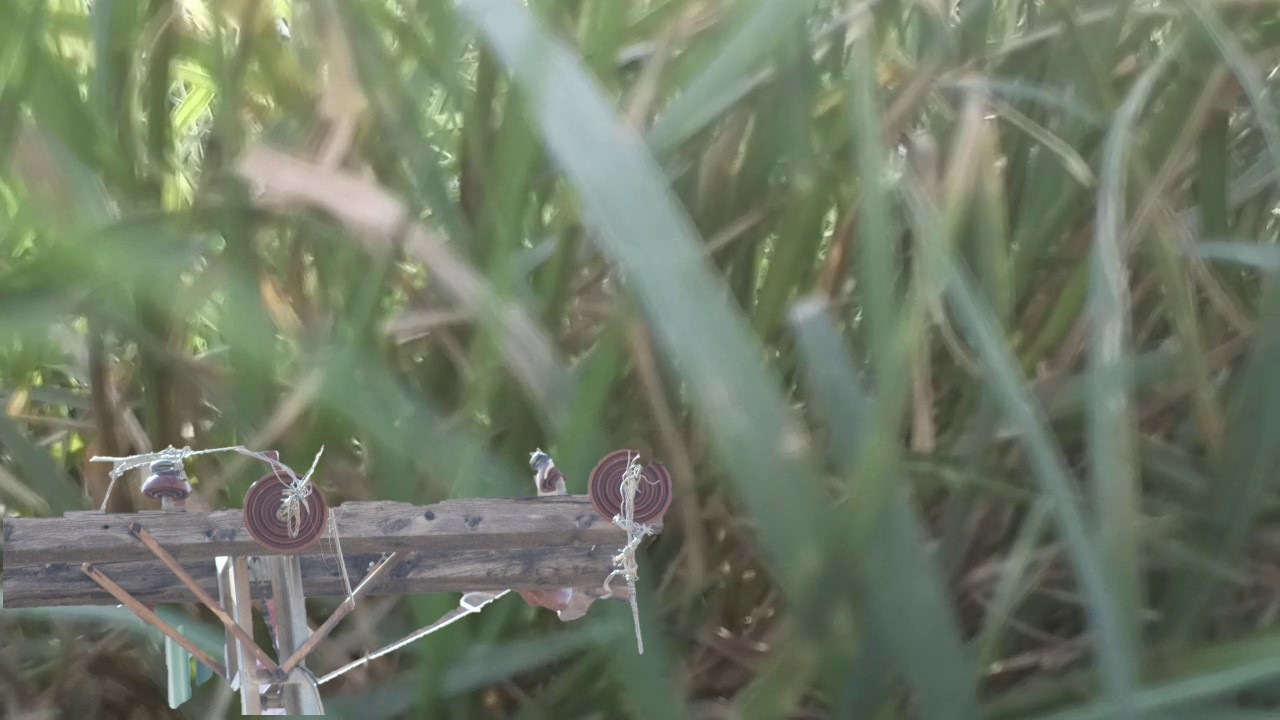defect_pin: (521, 442, 573, 498)
insulator_disc: (585, 435, 677, 537), (239, 461, 331, 552)
insulator_pin: (137, 449, 199, 509)
